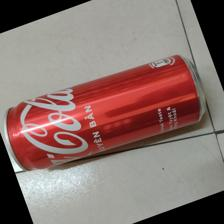Coca: (5, 53, 207, 175)
